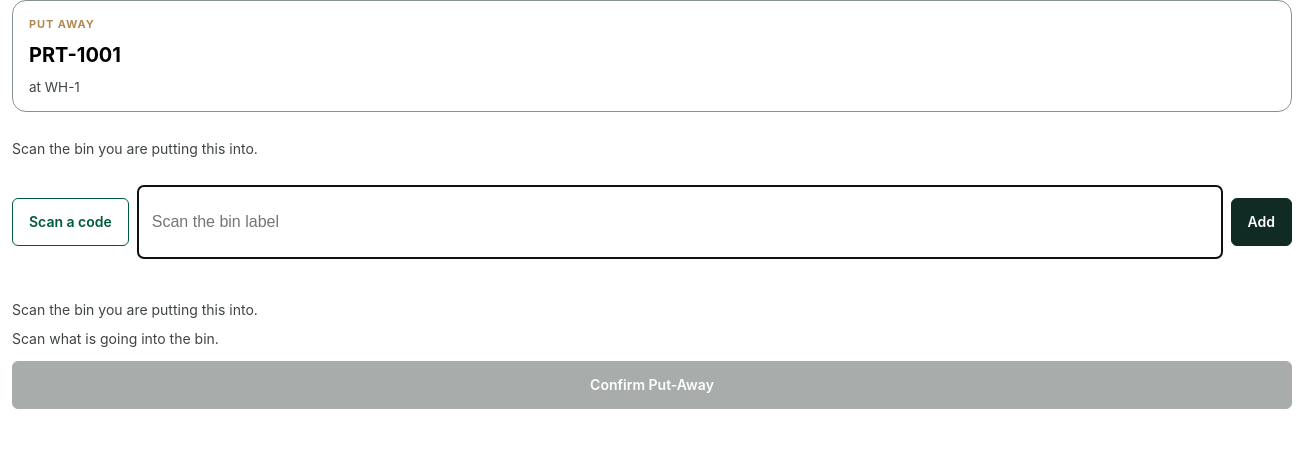
Test: Put-away (the bin is validated before anything goes in it) › WRONG WAREHOUSE says which building — not that the bin does not exist
Type "A-14" into the field named "scan bin" at (680, 222), box [137,185,1223,259]
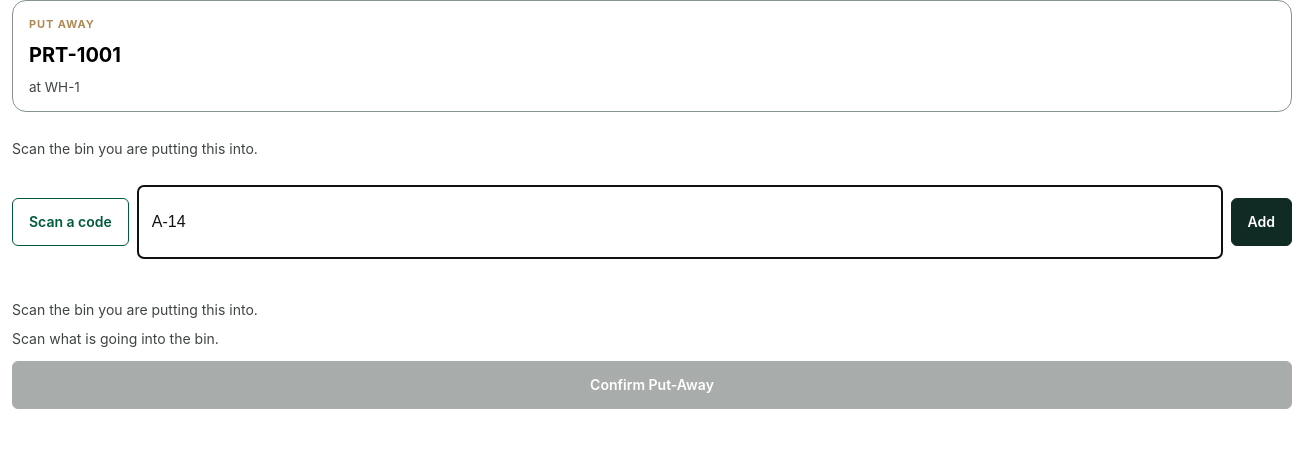
Click the button "Add" at (1261, 222), box [1230,198,1292,246]
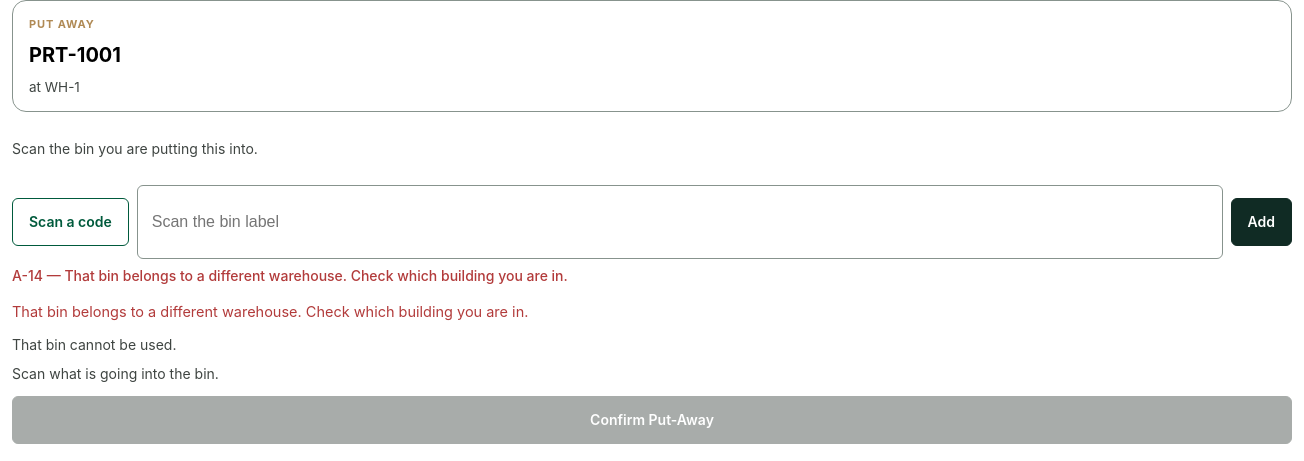
Result: the message "That bin belongs to a different warehouse. Check which building you are in." is shown at [12,303,528,320]
